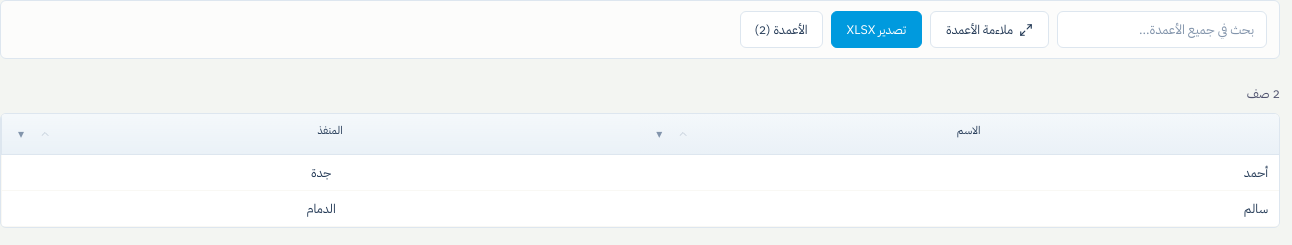
Scenario: DataTable — export failure is caught and surfaced (finding 10) › shows an alert banner, logs the failure, and re-enables the export button instead of failing silently
This screenshot has width=1292, height=245.
Click the button "تصدير XLSX": x=876, y=30 [830,11,922,48]
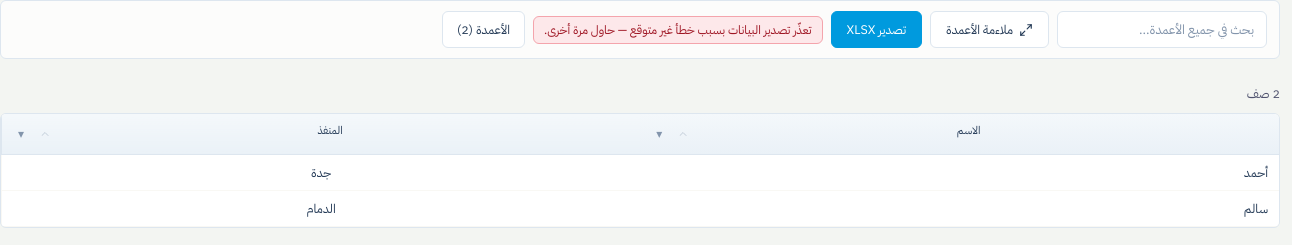
Result: the message "تعذّر تصدير البيانات بسبب خطأ غير متوقع — حاول مرة أخرى." is shown at [533,16,822,44]
Result: the message shows "تعذّر تصدير البيانات" at [544,20,812,38]
